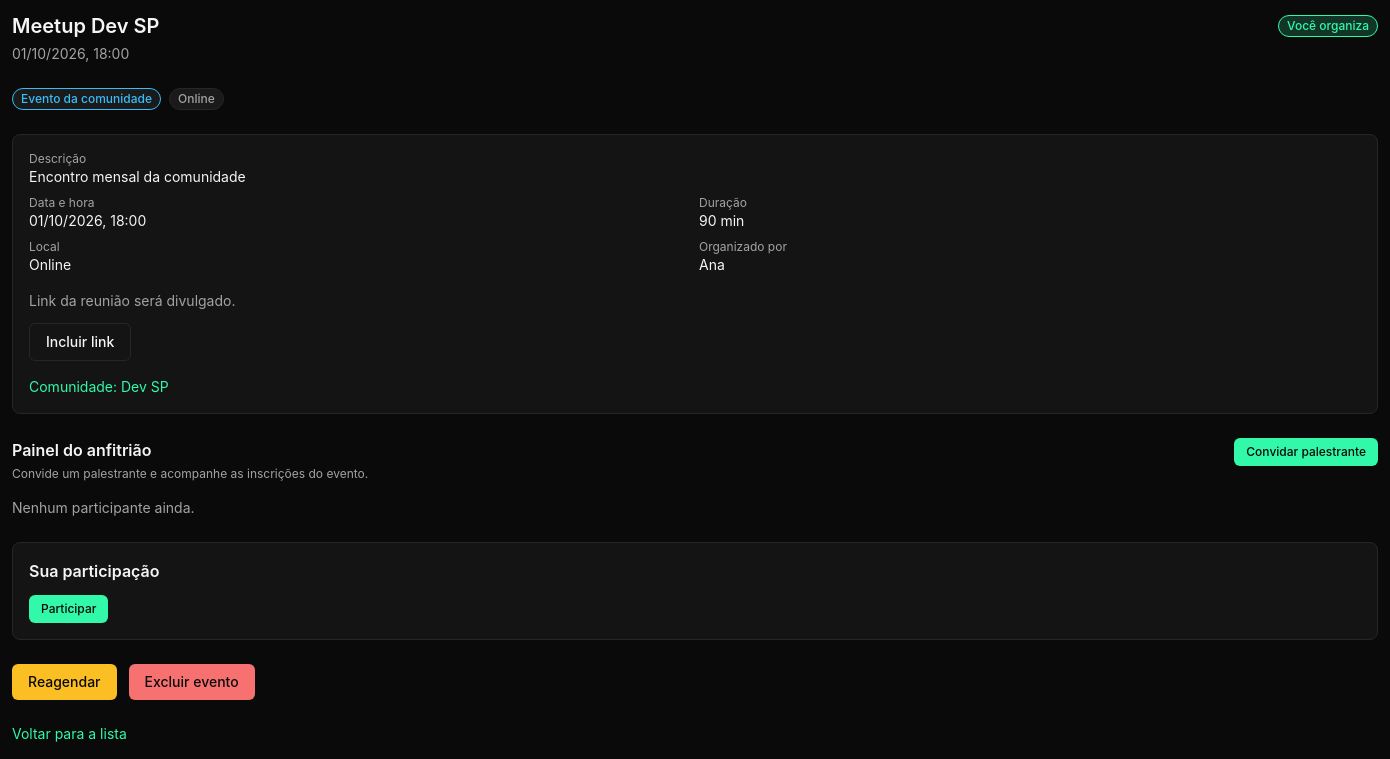
EventDetailPage › owner não salva meeting_link javascript:
Step 1. Click the button "Incluir link" → (80, 342), box left=29, top=323, right=131, bottom=361
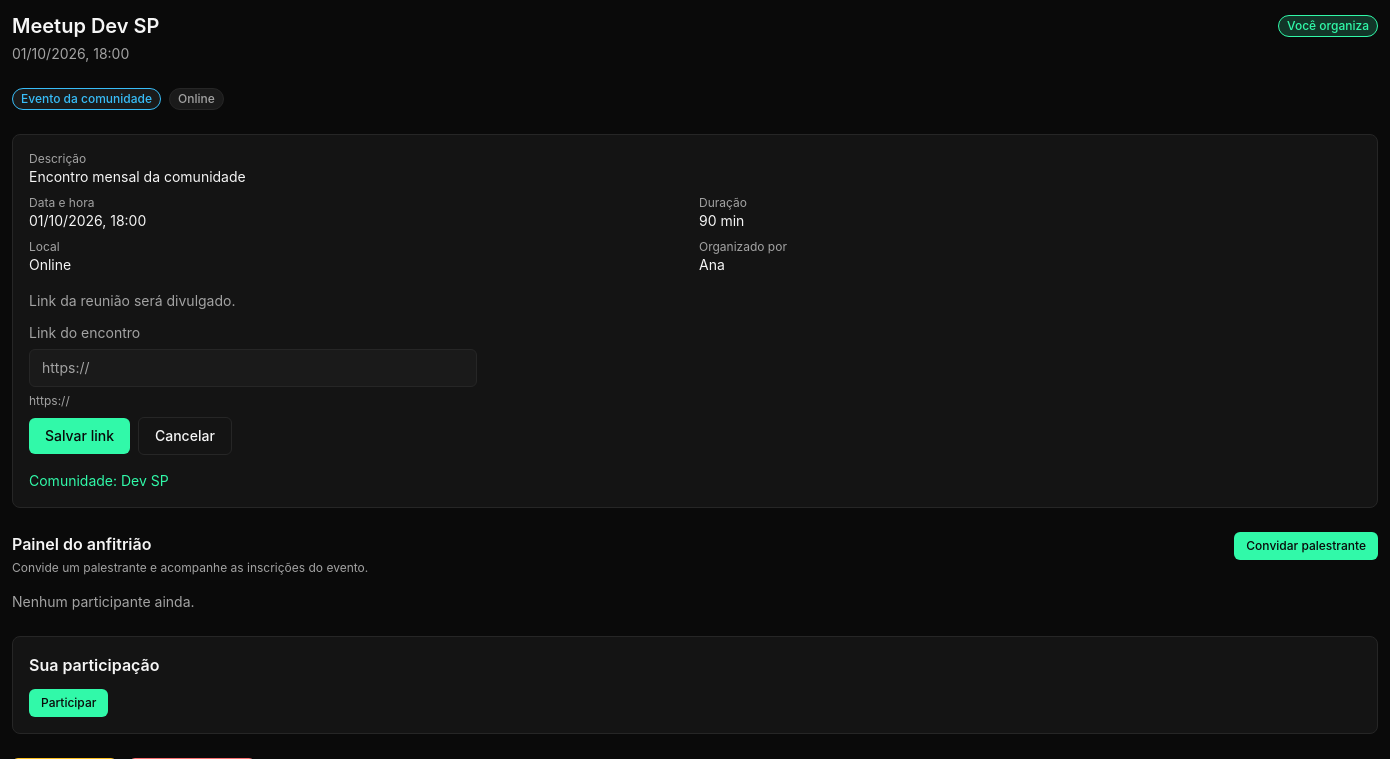
Step 2. Type "javascript:alert(1)" into the field labelled "Link do encontro" → (253, 368), box left=29, top=349, right=477, bottom=387
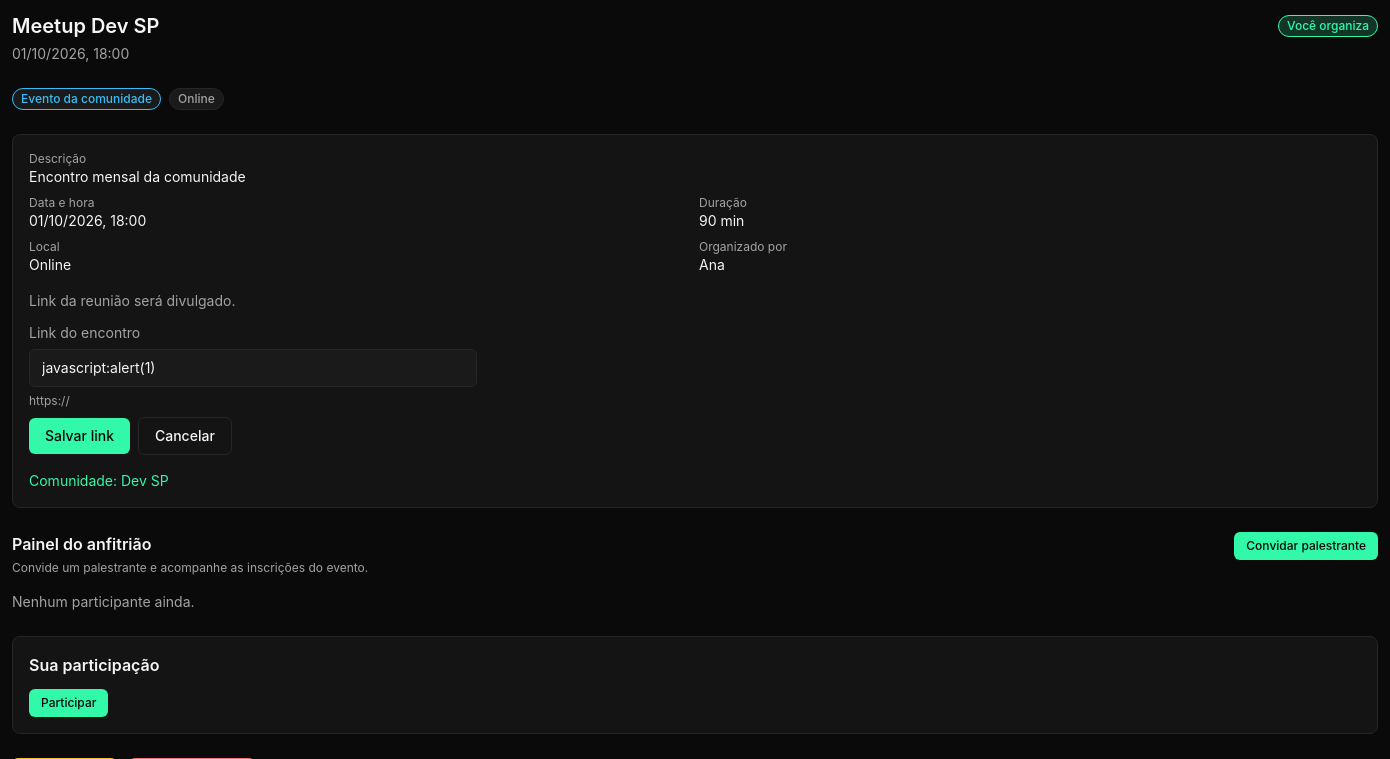
Step 3. Click the button "Salvar link" → (80, 436), box left=29, top=418, right=130, bottom=454
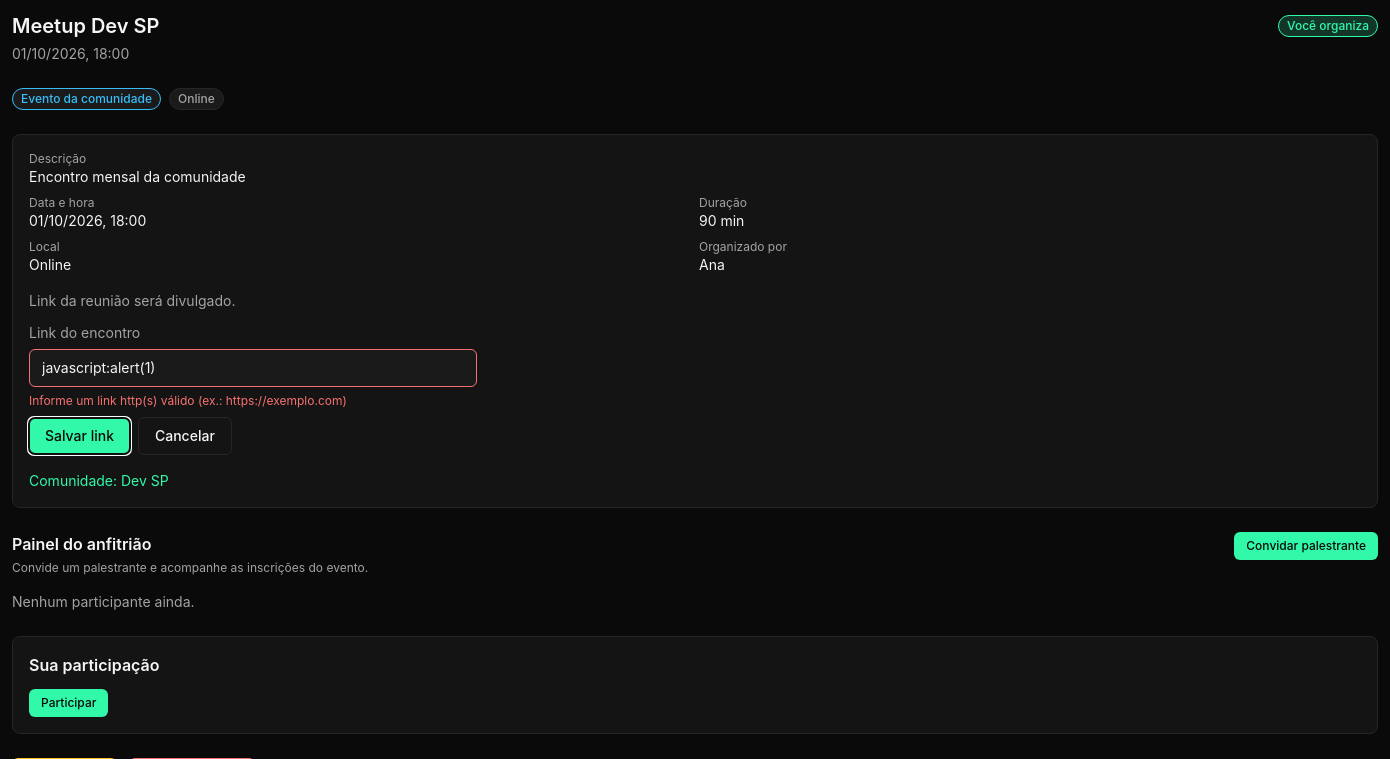
Now the text "Informe um link http(s) válido (ex.: https://exemplo.com)" is shown, box left=29, top=393, right=347, bottom=408
